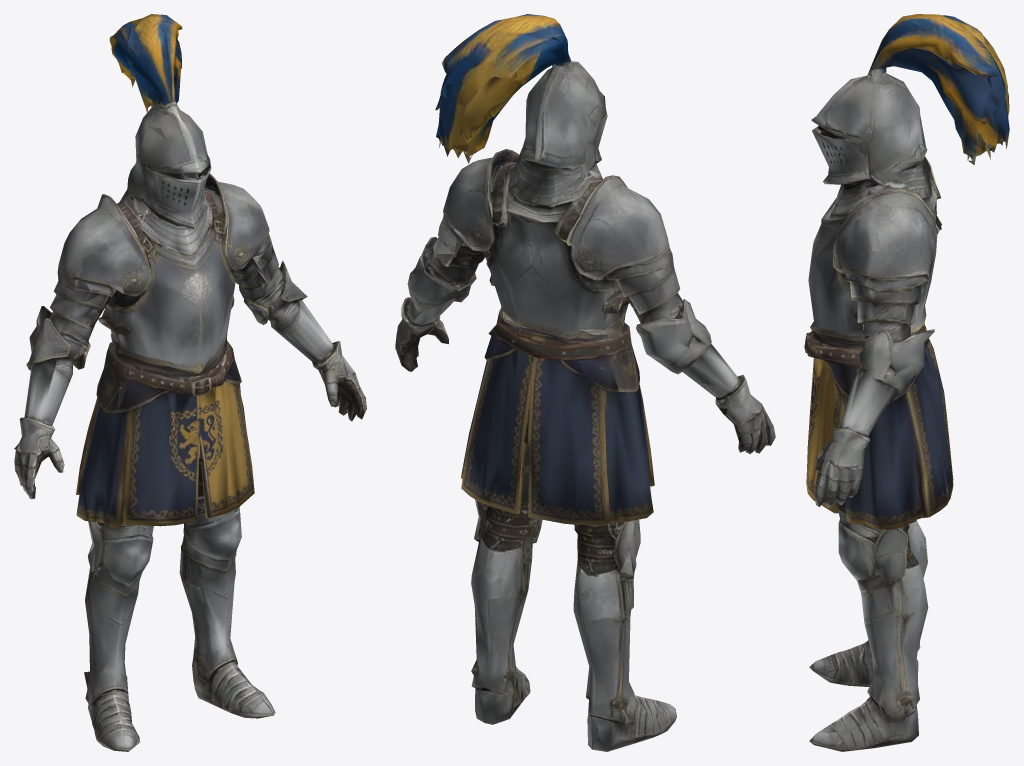
3 renders of one model, left to right at view 1: azimuth 30°, elevation 25°; view 2: azimuth 150°, elevation 25°; view 3: azimuth 270°, elevation 25°, orthographic. The views are drawn at different scales.
Visible parts, largest first — view 1: Mesh_0.002; view 2: Mesh_0.002; view 3: Mesh_0.002.
Boxes of the visible parts, bbox=[...] form: Mesh_0.002: bbox=[14, 14, 366, 751]; Mesh_0.002: bbox=[395, 14, 775, 751]; Mesh_0.002: bbox=[804, 14, 1009, 751].
Bounding box in the file's own units: 0.9549 × 1.8 × 0.4784.
Materials: 1 (1 with a texture image).
